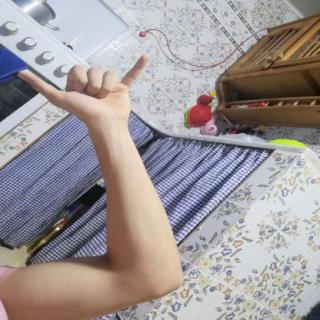YA: (8, 45, 158, 133)
